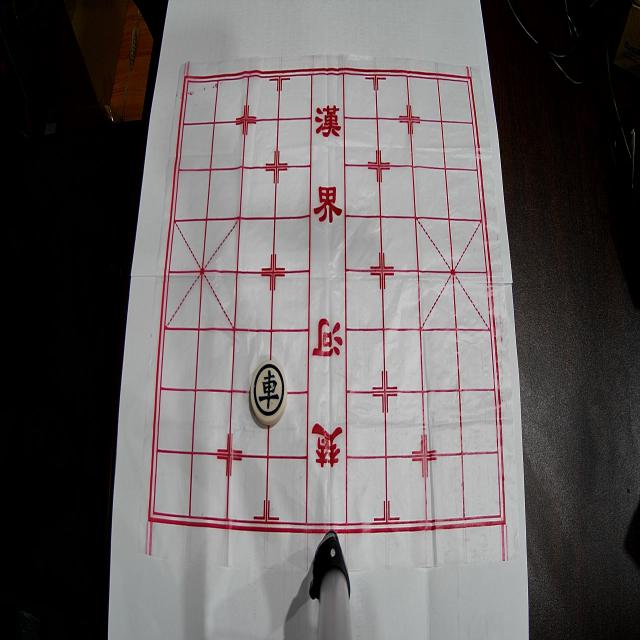black-chariot: (250, 360, 288, 426)
